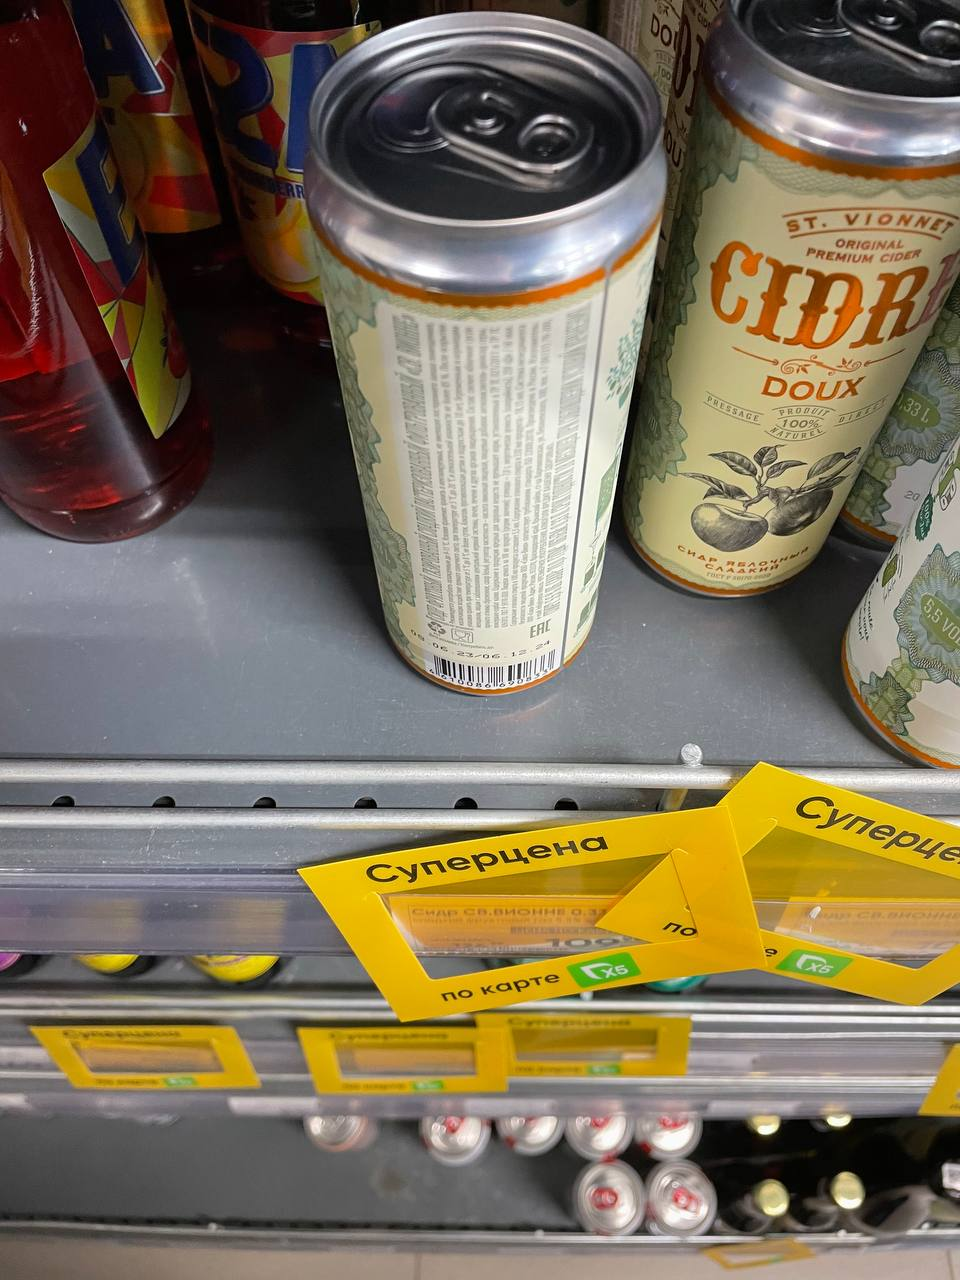1d: (434, 647, 555, 684), (509, 926, 609, 938)
